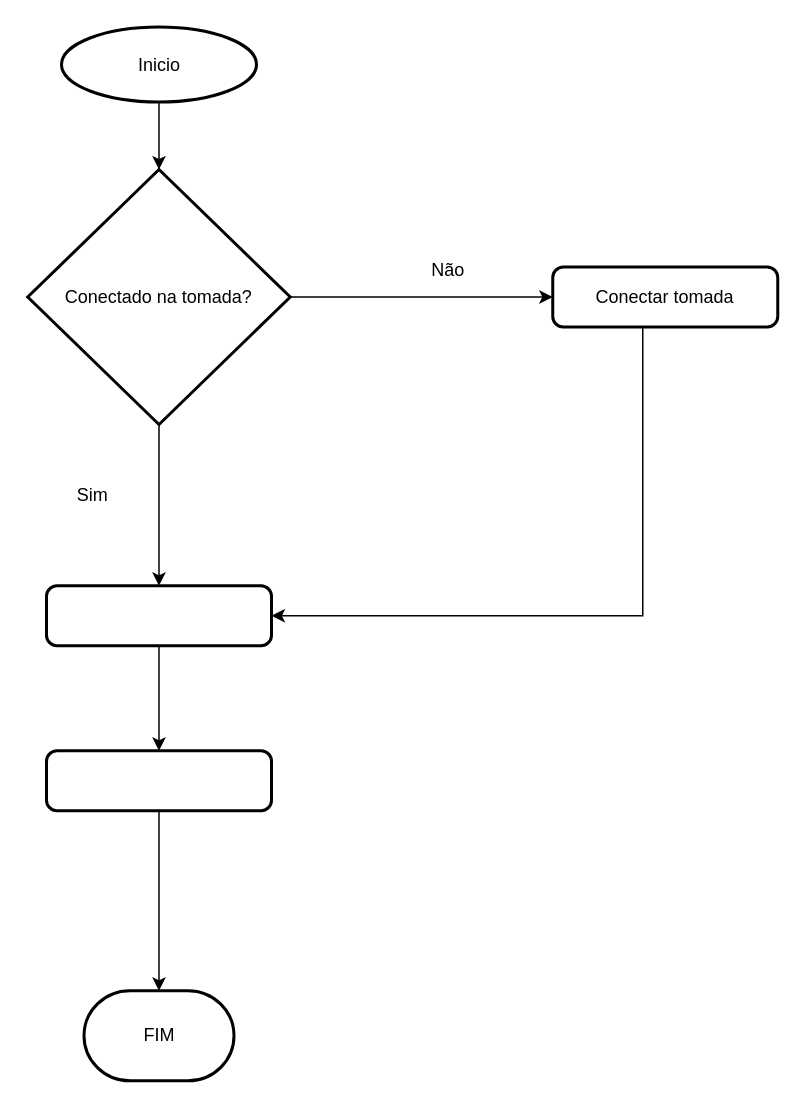
The diagram is 804 pixels wide and 1109 high, and some of its shapes have lost their labels. The shapes that lost their labels are listed below. From the top down, each one's centre as x and y in pixels, then its label:
At point 158,615: "Ligar computador".
At point 158,780: "Logar na conta de usuario".
